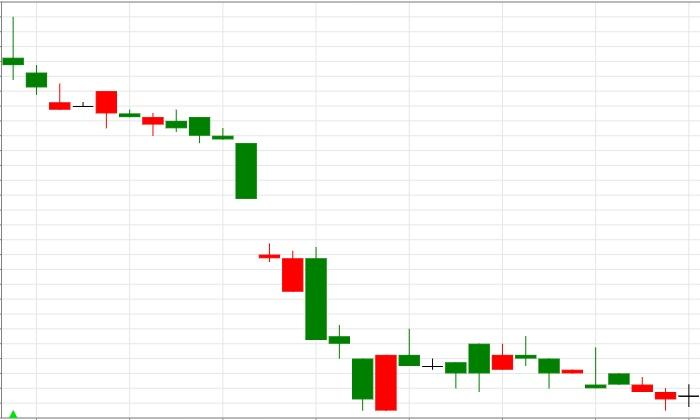bullish_engulfing_rise: (165, 109, 397, 411)
